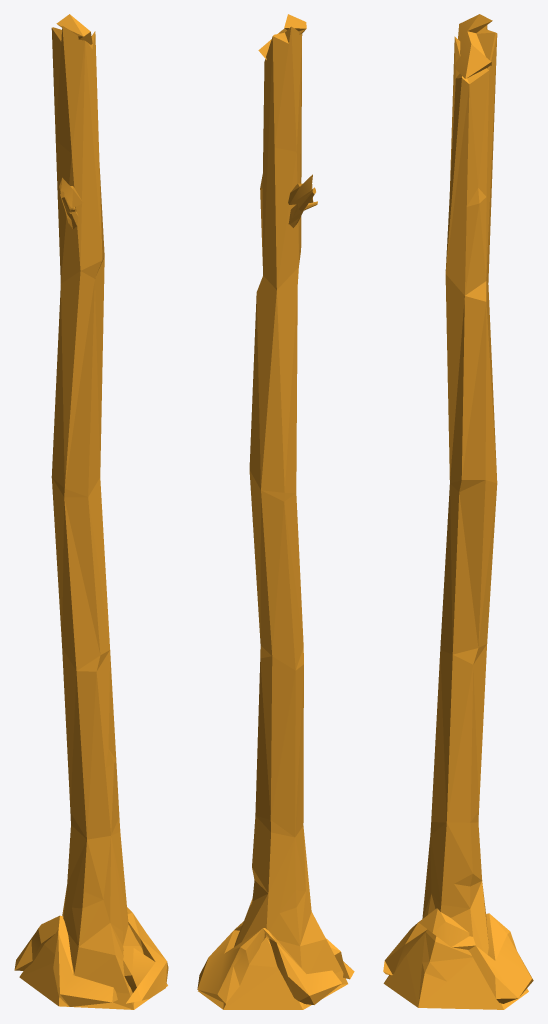
Rendered from SM_Tree_Birch_Broken_A_Snow.fbx.
3 views of the same model, side by side, from view 1: azimuth 90°, elevation 25°; view 2: azimuth 150°, elevation 25°; view 3: azimuth 270°, elevation 25° (orthographic). The views are drawn at different scales.
Parts seen in each view (by area): view 1: tree-birch-broken-a-snow; view 2: tree-birch-broken-a-snow; view 3: tree-birch-broken-a-snow.
Boxes of the visible parts, x1,y1,x2,y2 form: tree-birch-broken-a-snow: (14,14,168,1009); tree-birch-broken-a-snow: (197,14,354,1009); tree-birch-broken-a-snow: (383,14,533,1009).
Bounding box in the file's own units: 0.6402 × 5.29 × 0.7517.
